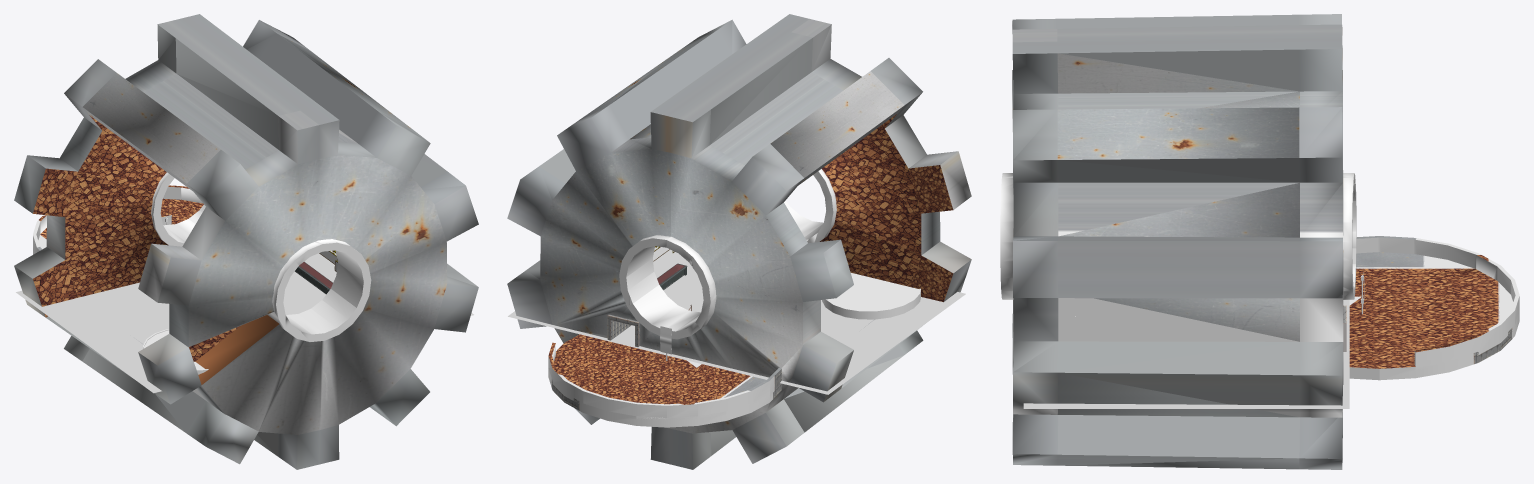
Rendered from Gearbar.fbx.
3 renders of one model, left to right at view 1: azimuth 30°, elevation 25°; view 2: azimuth 150°, elevation 25°; view 3: azimuth 270°, elevation 25°, orthographic. The views are drawn at different scales.
Parts seen in each view (by area): view 1: Bar Shall, Plane, BarTable; view 2: Bar Shall, Plane, StagePlane, StageFrame; view 3: Bar Shall, Plane.
Boxes of the visible parts, box(x1,y1,x2,y2) form: Bar Shall: box(14, 14, 478, 469); Plane: box(16, 250, 473, 393); BarTable: box(295, 261, 332, 294); Bar Shall: box(507, 14, 971, 469); Plane: box(508, 246, 965, 394); StagePlane: box(828, 273, 919, 310); StageFrame: box(822, 288, 920, 319); Bar Shall: box(1000, 14, 1519, 469); Plane: box(1023, 300, 1349, 408).
Bounding box in the file's own units: 5561 × 5614 × 6434.
